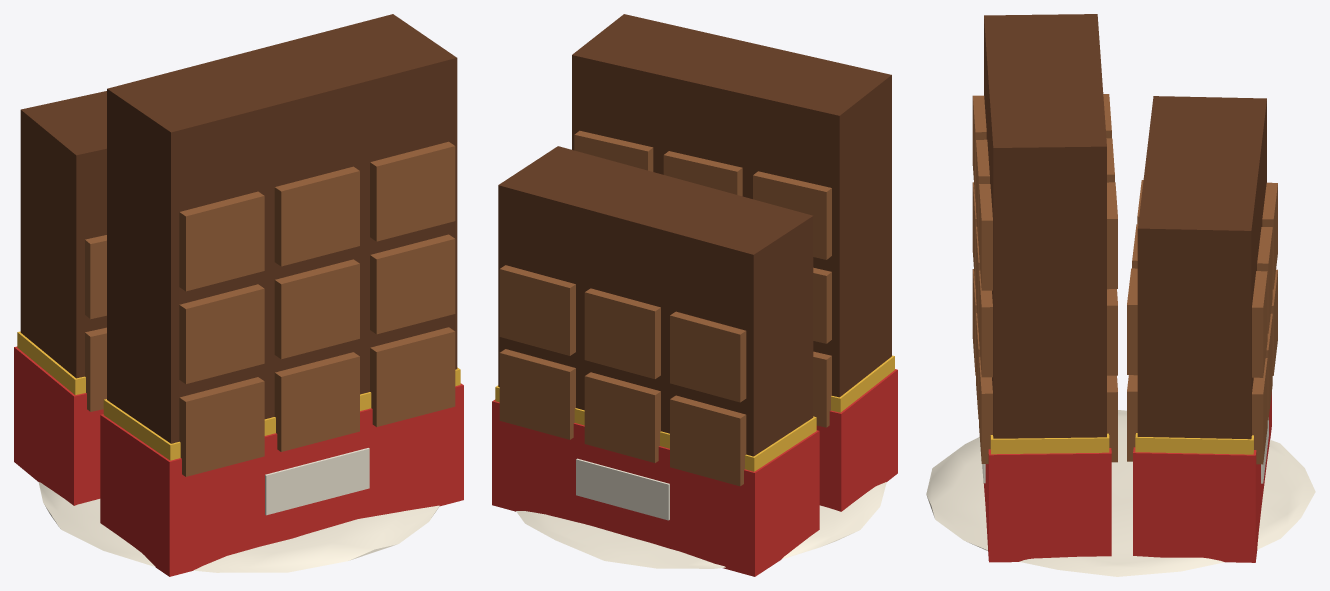
Rendered from ChocoBlock.fbx.
The picture shows the model from 3 angles, left to right: view 1: azimuth 30°, elevation 25°; view 2: azimuth 150°, elevation 25°; view 3: azimuth 270°, elevation 25°; orthographic projection. The views are drawn at different scales.
Visible parts, largest first — view 1: ChocoBlock; view 2: ChocoBlock; view 3: ChocoBlock.
Boxes of the visible parts, <box> form: ChocoBlock: <box>14,14,463,576</box>; ChocoBlock: <box>492,14,897,576</box>; ChocoBlock: <box>926,14,1315,576</box>.
Bounding box in the file's own units: 1.73 × 2 × 1.71.
1 material, 1 textured.
